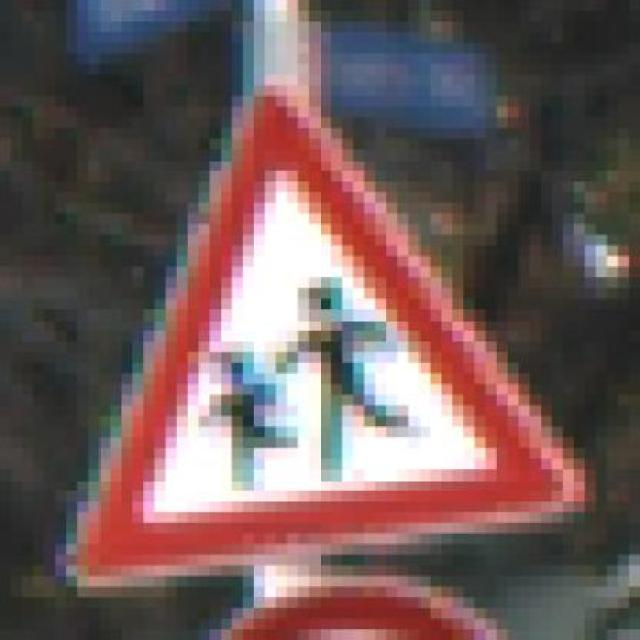Beware of children: (55, 64, 596, 576)
